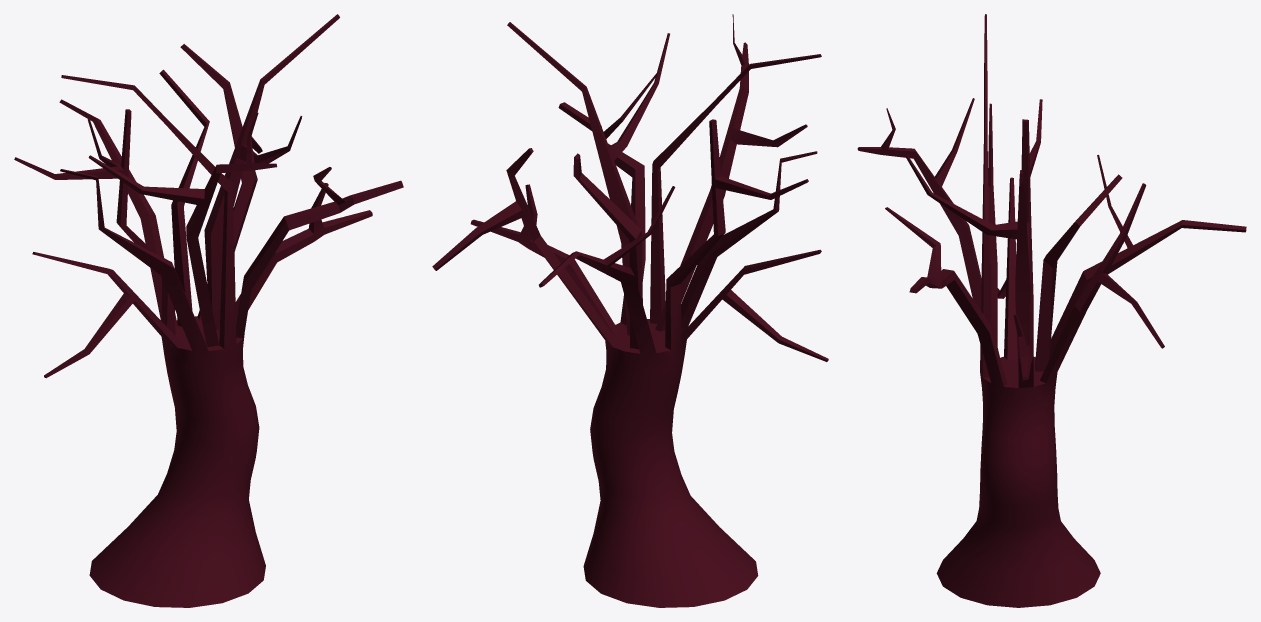
Rendered from Tree.fbx.
3 renders of one model, left to right at view 1: azimuth 30°, elevation 25°; view 2: azimuth 150°, elevation 25°; view 3: azimuth 270°, elevation 25°, orthographic. The views are drawn at different scales.
Visible parts, largest first — view 1: Tree; view 2: Tree; view 3: Tree.
Part boxes in pixels (x1=…): Tree: x1=14, y1=14, x2=403, y2=607; Tree: x1=432, y1=14, x2=828, y2=607; Tree: x1=857, y1=14, x2=1246, y2=607.
Bounding box in the file's own units: 3.38 × 5.03 × 3.55.
